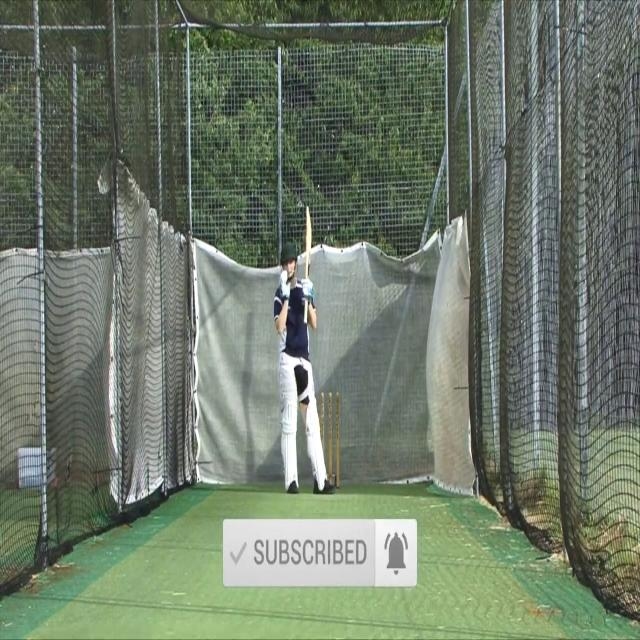batsman: (272, 202, 337, 497)
